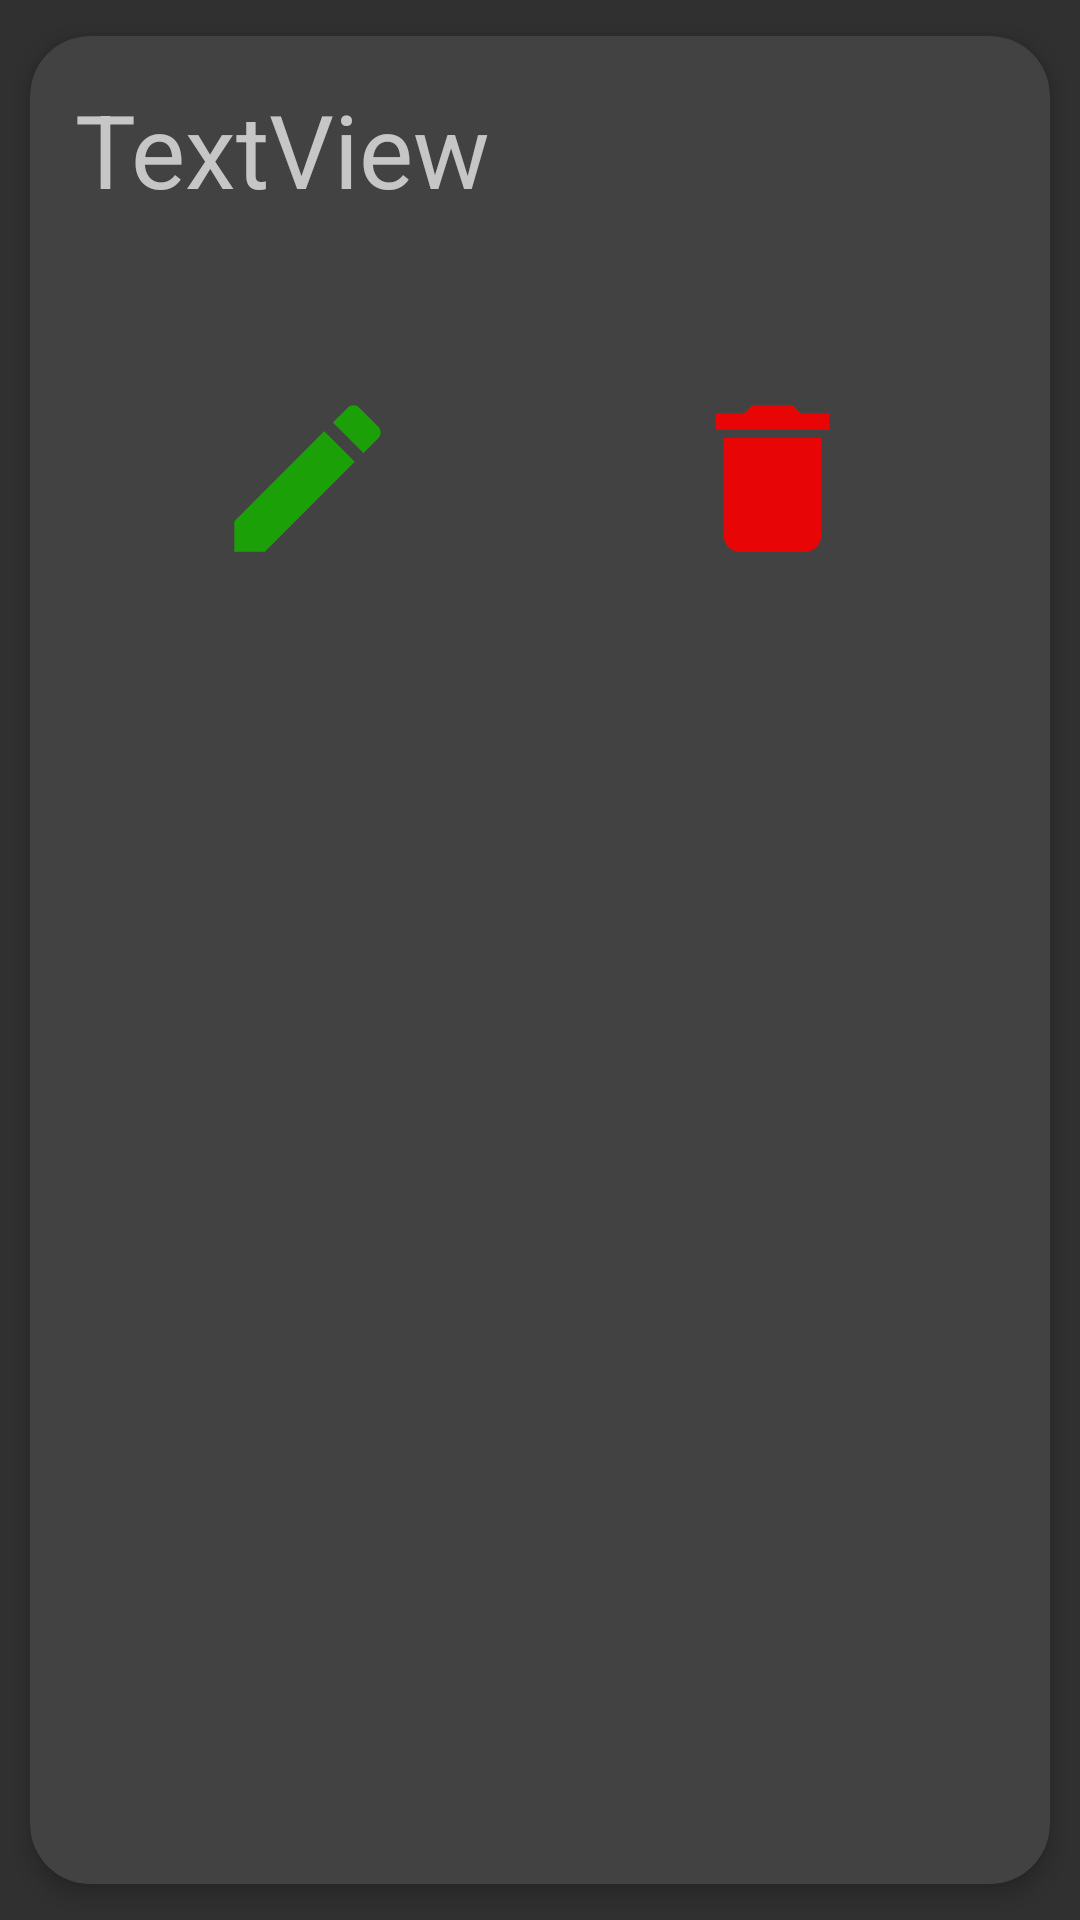

Where to tap for icons on this 1080x1920 app screen, as [x,y]:
delete: [772,478]
edit: [307,478]
